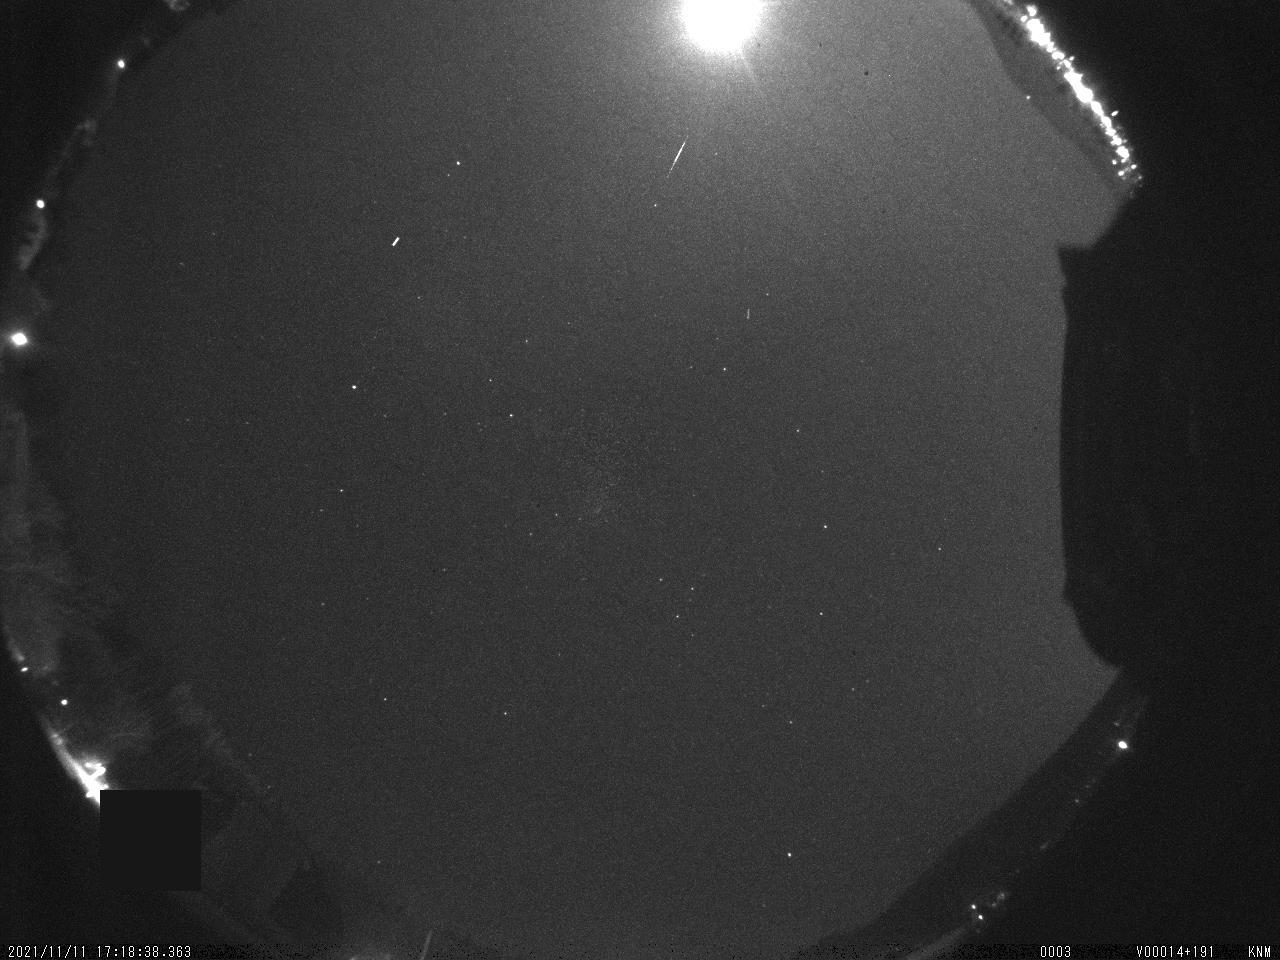meteor: (664, 131, 694, 180)
